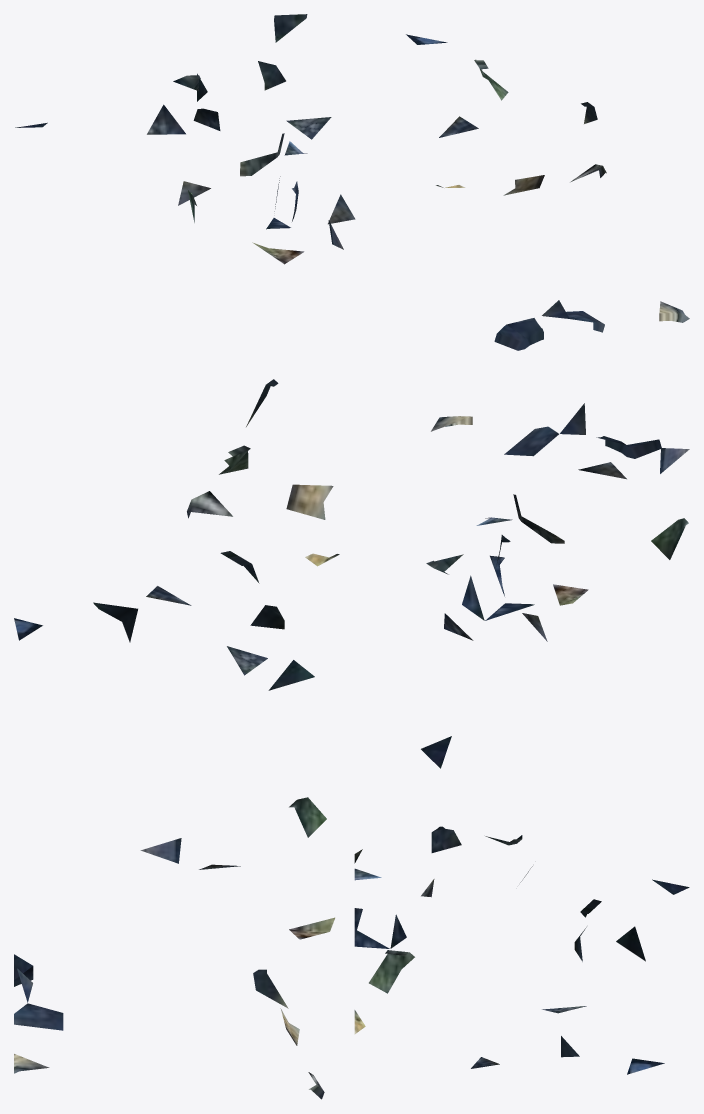
3 views of the same model, one above another, from view 1: azimuth 30°, elevation 25°; view 2: azimuth 150°, elevation 25°; view 3: azimuth 270°, elevation 25° (orthographic). The views are drawn at different scales.
Parts seen in each view (by area): view 1: 30436272704370606613_1; view 2: 30436272704370606613_1; view 3: 30436272704370606613_1.
Boxes of the visible parts, left/top/right/bottom form: 30436272704370606613_1: left=15, top=14, right=689, bottom=350; 30436272704370606613_1: left=14, top=379, right=689, bottom=768; 30436272704370606613_1: left=14, top=797, right=689, bottom=1099.
Size of the model in its own units: 27.31 by 7.55 by 37.95.
1 material, 1 textured.
